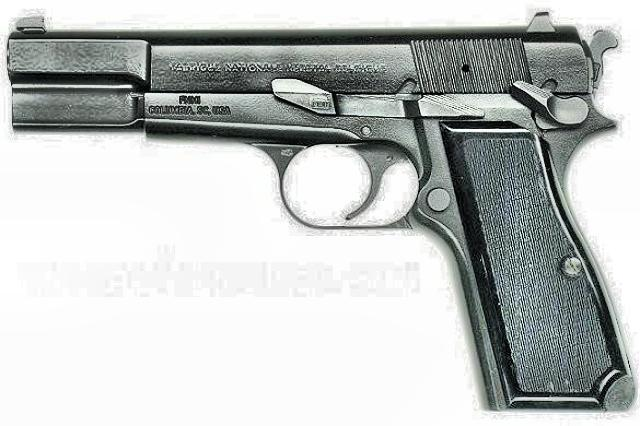pistol: (8, 12, 636, 414)
